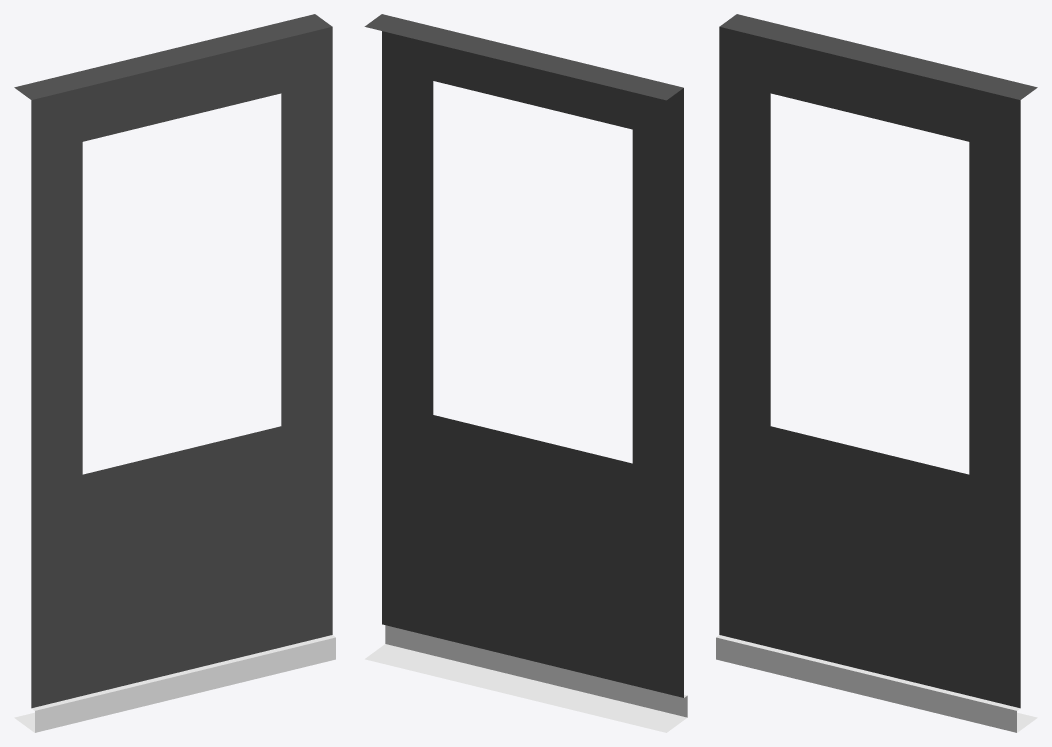
File: Int-V2WindowframeSmallGray.fbx
3 views of the same model, side by side, from view 1: azimuth 30°, elevation 25°; view 2: azimuth 150°, elevation 25°; view 3: azimuth 330°, elevation 25° (orthographic).
Parts seen in each view (by area): view 1: Int-V2WindowframeSmallGray; view 2: Int-V2WindowframeSmallGray; view 3: Int-V2WindowframeSmallGray.
Boxes of the visible parts, x1,y1,x2,y2 form: Int-V2WindowframeSmallGray: (14, 14, 335, 732); Int-V2WindowframeSmallGray: (364, 14, 687, 732); Int-V2WindowframeSmallGray: (716, 14, 1037, 732).
Bounding box in the file's own units: 100 × 200 × 12.
